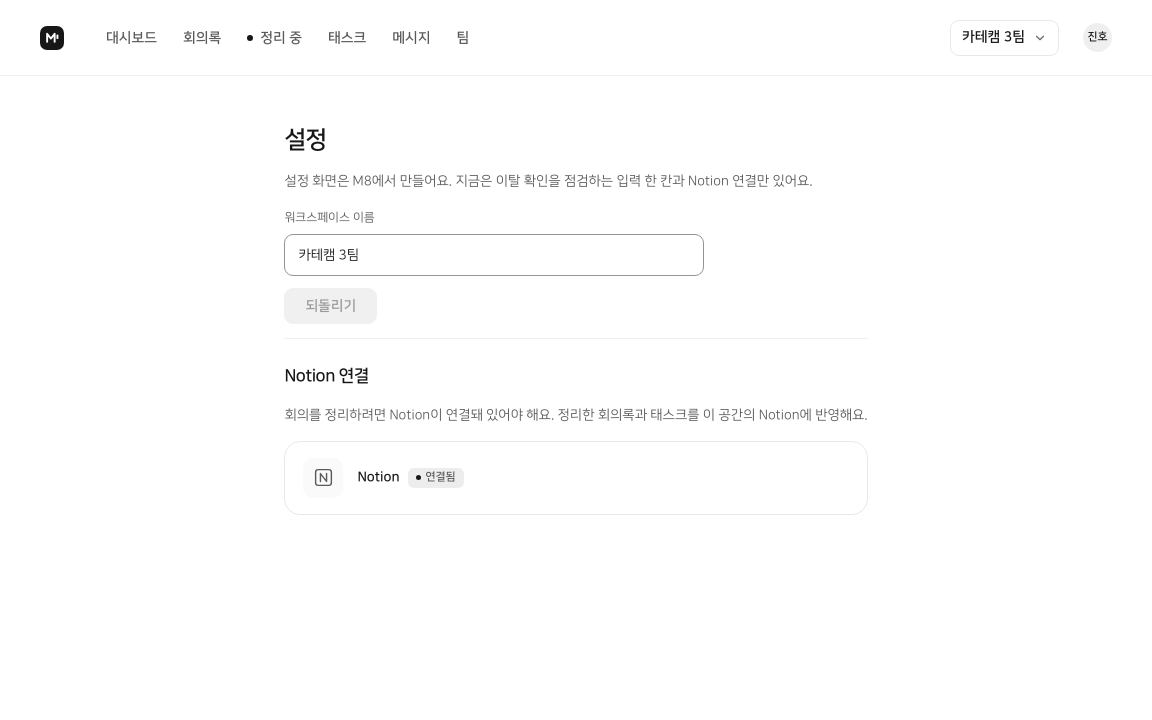
Test: 앱 안의 이탈 확인 › 워크스페이스 목록으로 나가는 이동도 묻고, 버리고 나가면 이어 간다
Type " 새 이름" into the field labelled "워크스페이스 이름" at (494, 255), box [284, 234, 704, 276]
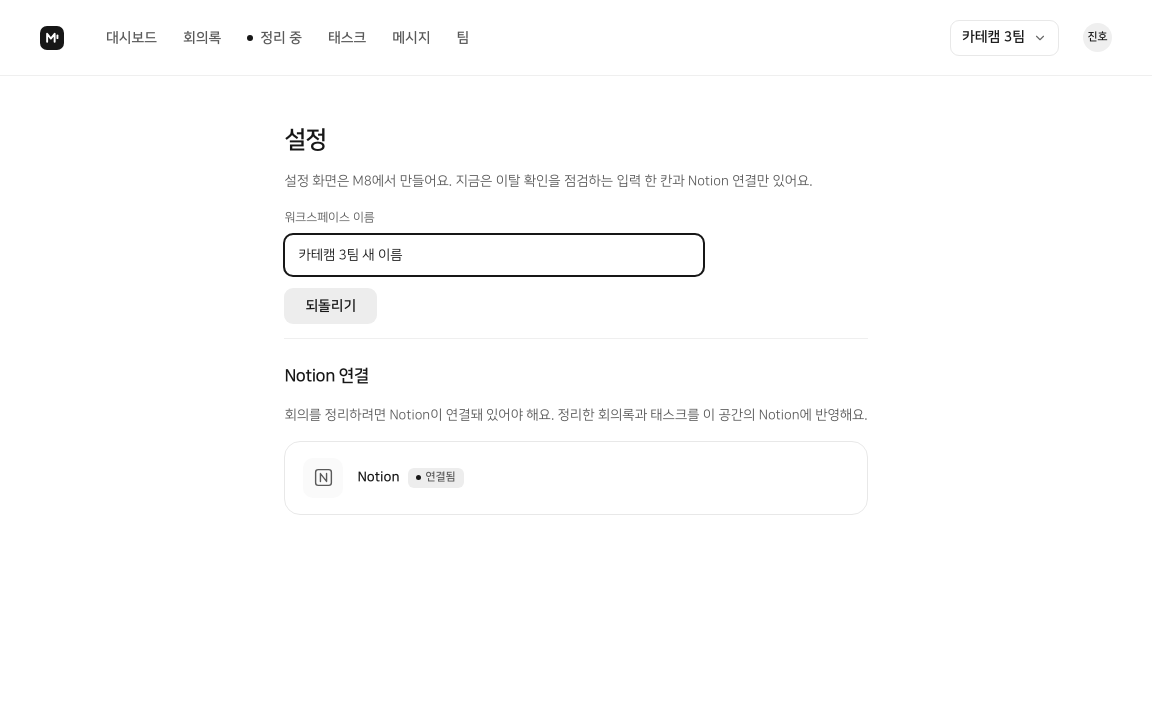
Click the button with aria-label "워크스페이스 바꾸기" at (1004, 38), box [950, 20, 1059, 56]
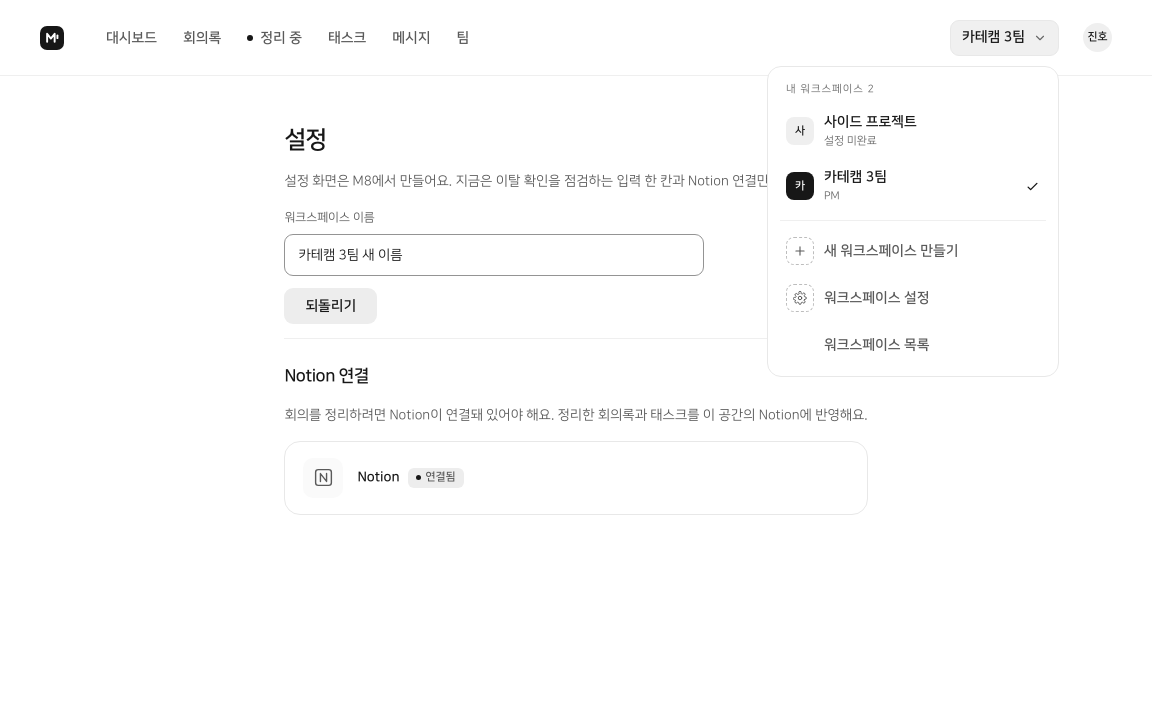
Click the menu item "워크스페이스 목록" at (877, 345), box [824, 337, 929, 353]
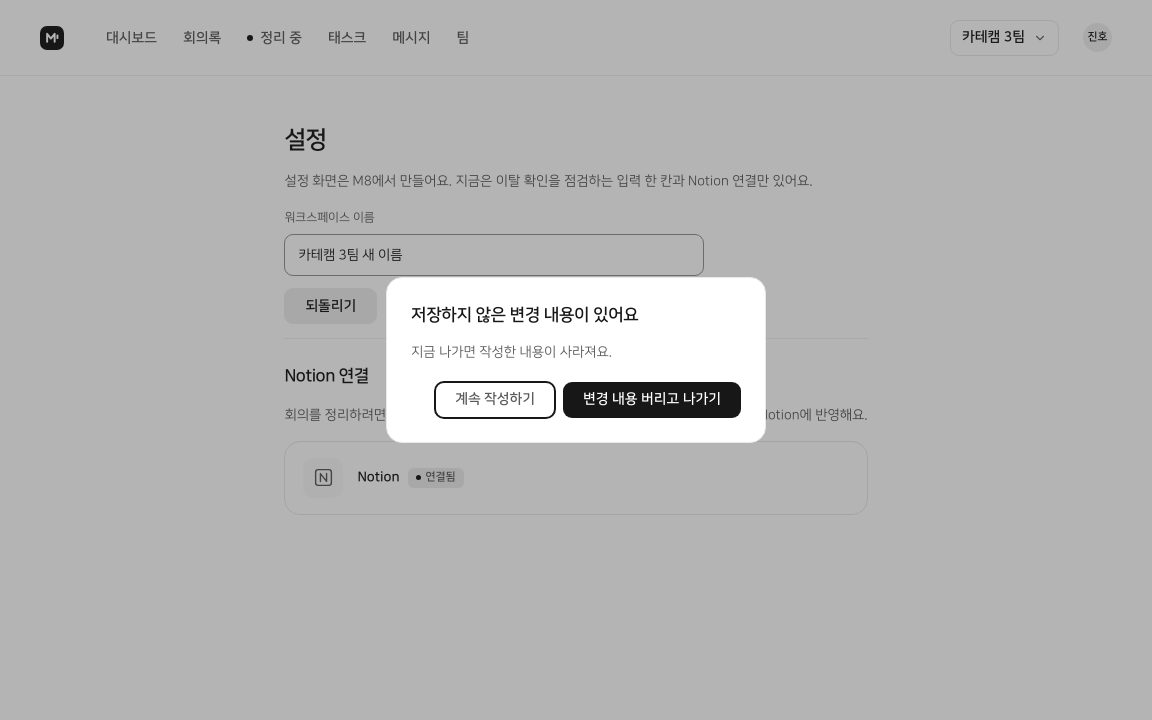
Click the button "변경 내용 버리고 나가기" at (652, 400), box [563, 382, 741, 418]
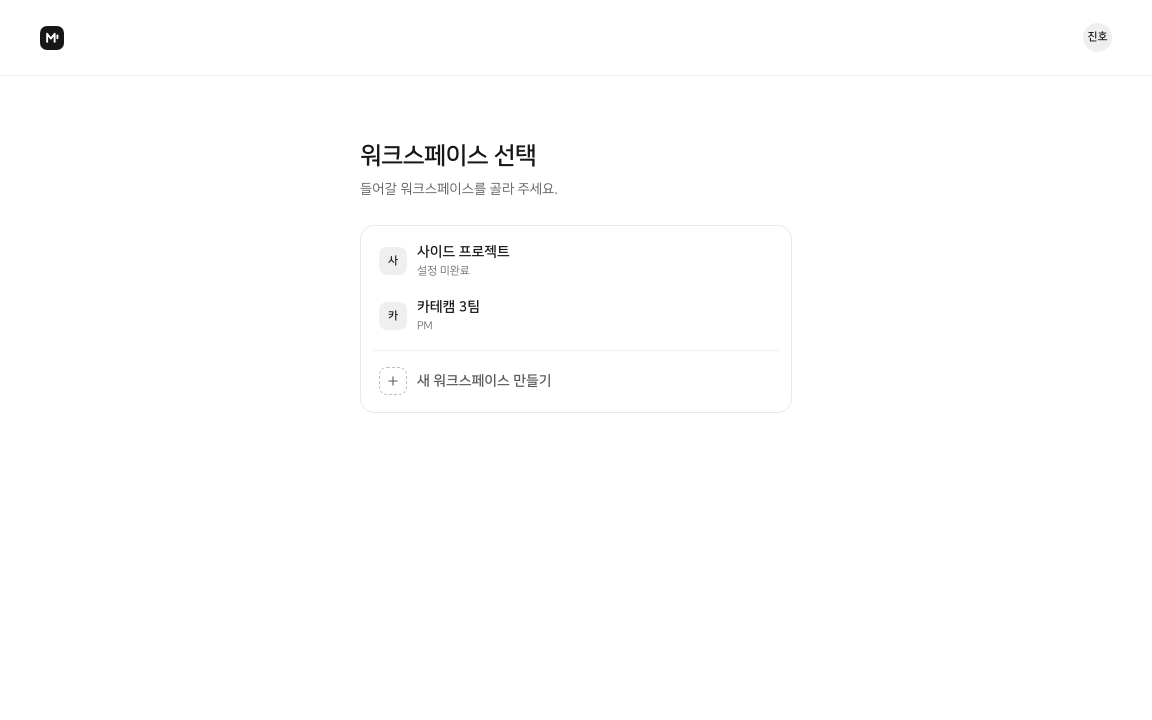
Expected: the heading "워크스페이스 선택" is shown, [360, 143, 536, 169]
